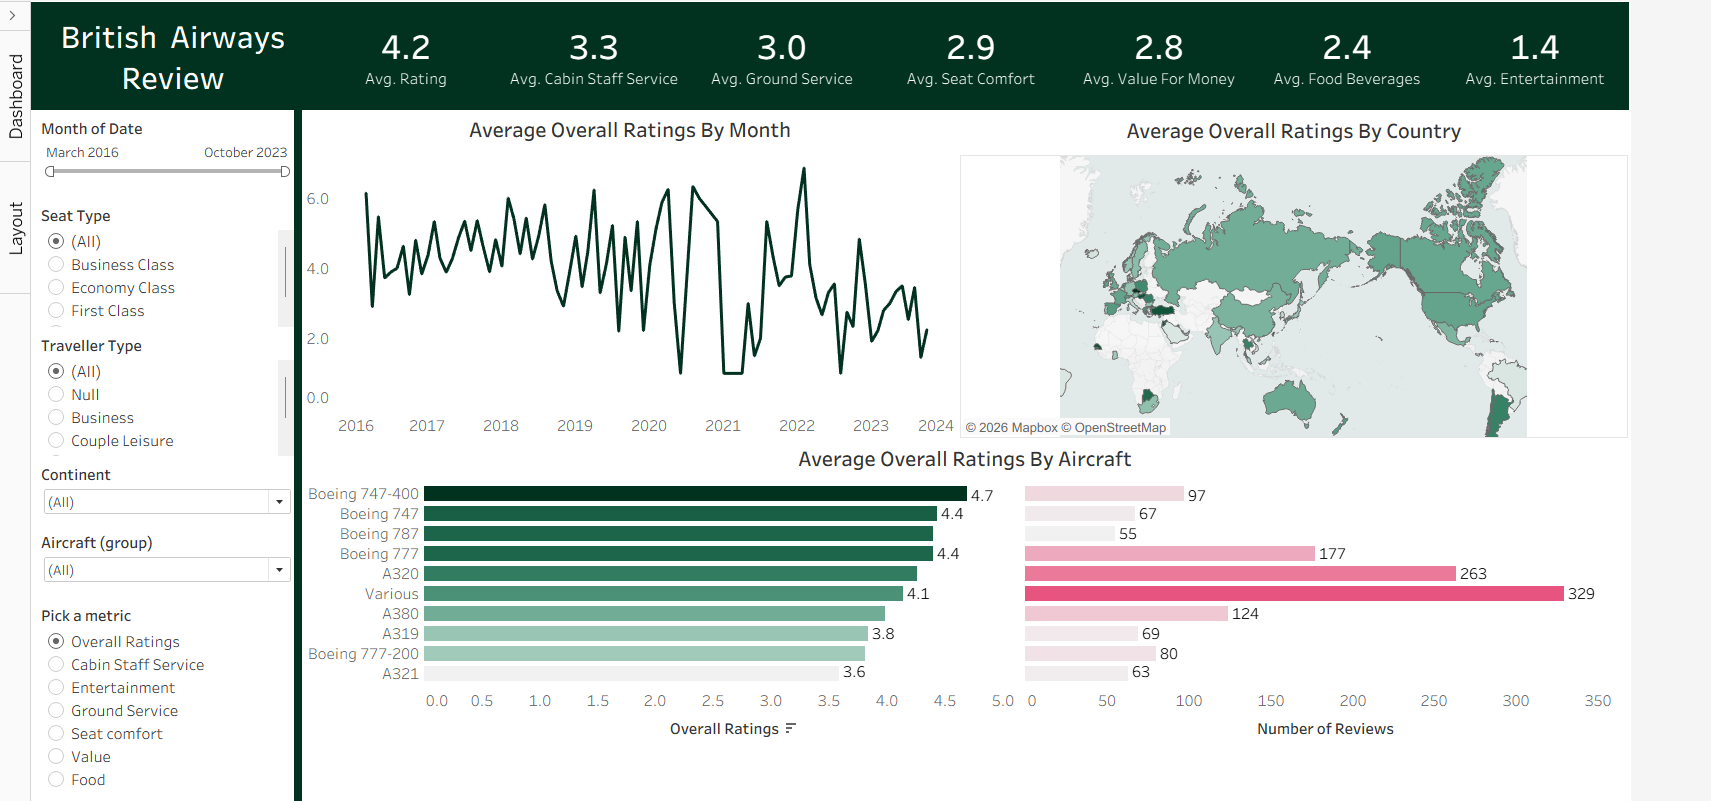

The page's visual inventory and layout, read from the dashboard file:
{"tool":"tableau","page":{"name":"Dashboard 1","canvas":[1600,1200],"ordinal":0},"visuals":[{"type":"text","box":[0,1,284,108]},{"type":"worksheet","title":"Summary","mark":"Automatic","box":[281,1,1317,108]},{"type":"worksheet","title":"Month","mark":"Automatic","rows":["Calculation_1029072531268890624"],"cols":["date"],"box":[273,110,652,327]},{"type":"worksheet","title":"Map","mark":"Automatic","box":[929,111,668,326]},{"type":"filter","title":"Map","param":"[federated.1yx3vva0rdnn0212voaoi00kkq6o].[tmn:date:qk]","box":[6,113,261,87]},{"type":"filter","title":"Map","param":"[federated.1yx3vva0rdnn0212voaoi00kkq6o].[none:seat_type:nk]","box":[6,200,261,130]},{"type":"filter","title":"Map","param":"[federated.1yx3vva0rdnn0212voaoi00kkq6o].[none:traveller_type:nk]","box":[6,330,261,129]},{"type":"worksheet","title":"Aircraft","mark":"Automatic","cols":["Calculation_1029072531268890624","ba_reviews.csv_65421067F39E4E138CCA6795EDE5DF68"],"box":[273,439,1323,361]},{"type":"filter","title":"Map","param":"[federated.1yx3vva0rdnn0212voaoi00kkq6o].[none:Continent:nk]","box":[6,459,261,68]},{"type":"filter","title":"Map","param":"[federated.1yx3vva0rdnn0212voaoi00kkq6o].[Aircraft (group)]","box":[6,527,261,73]},{"type":"parameter","param":"[Parameters].[Parameter 1]","box":[6,600,261,194]}]}

Visuals, with their boxes on the page's 1600x1200 design canvas (x1, y1, x2, y2). These are canvas units, not pixel positions in the 1711x801 screenshot, which may show the page scaled, cropped or inside an application window:
text: box=[0, 1, 284, 109]
"Summary" worksheet: box=[281, 1, 1598, 109]
"Month" worksheet: box=[273, 110, 925, 437]
"Map" worksheet: box=[929, 111, 1597, 437]
"Map" filter: box=[6, 113, 267, 200]
"Map" filter: box=[6, 200, 267, 330]
"Map" filter: box=[6, 330, 267, 459]
"Aircraft" worksheet: box=[273, 439, 1596, 800]
"Map" filter: box=[6, 459, 267, 527]
"Map" filter: box=[6, 527, 267, 600]
parameter: box=[6, 600, 267, 794]
